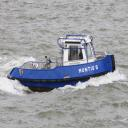tugboat: (7, 35, 119, 98)
